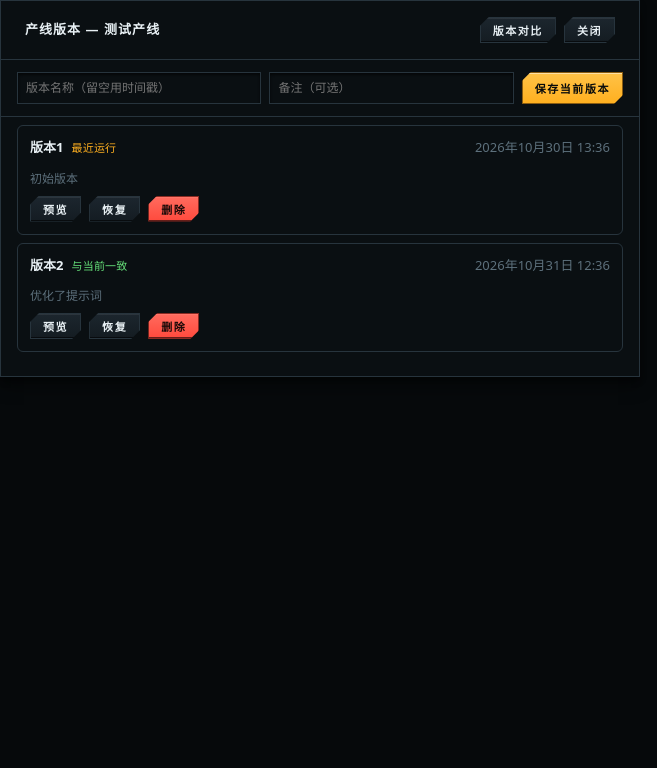
Test: VersionPanel › 预览版本 › 预览显示节点和连线数量摘要
Click the button "预览" below "初始版本" at (56, 208), box 30,196 -> 81,222
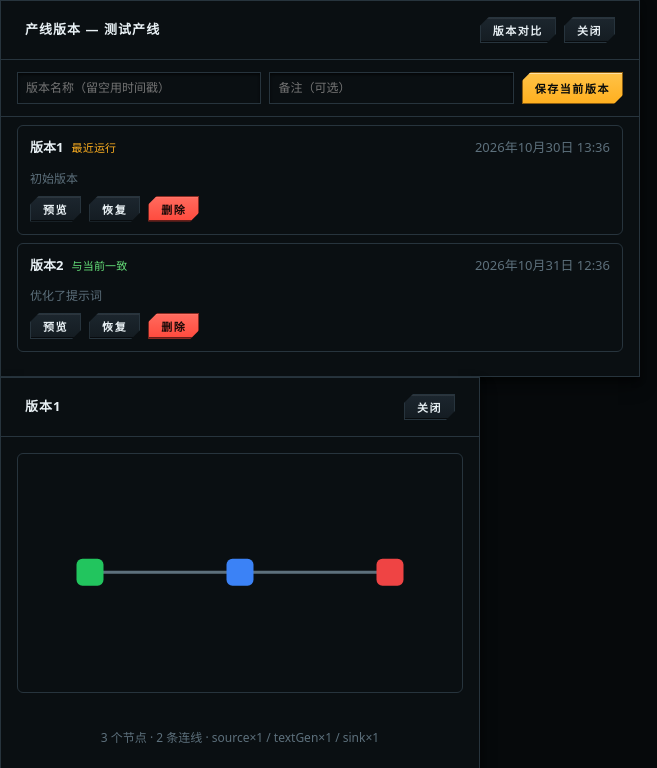
Expected: the text "3 个节点 · 2 条连线 · source×1 / textGen×1 / sink×1" is shown, 101,729 -> 379,746
